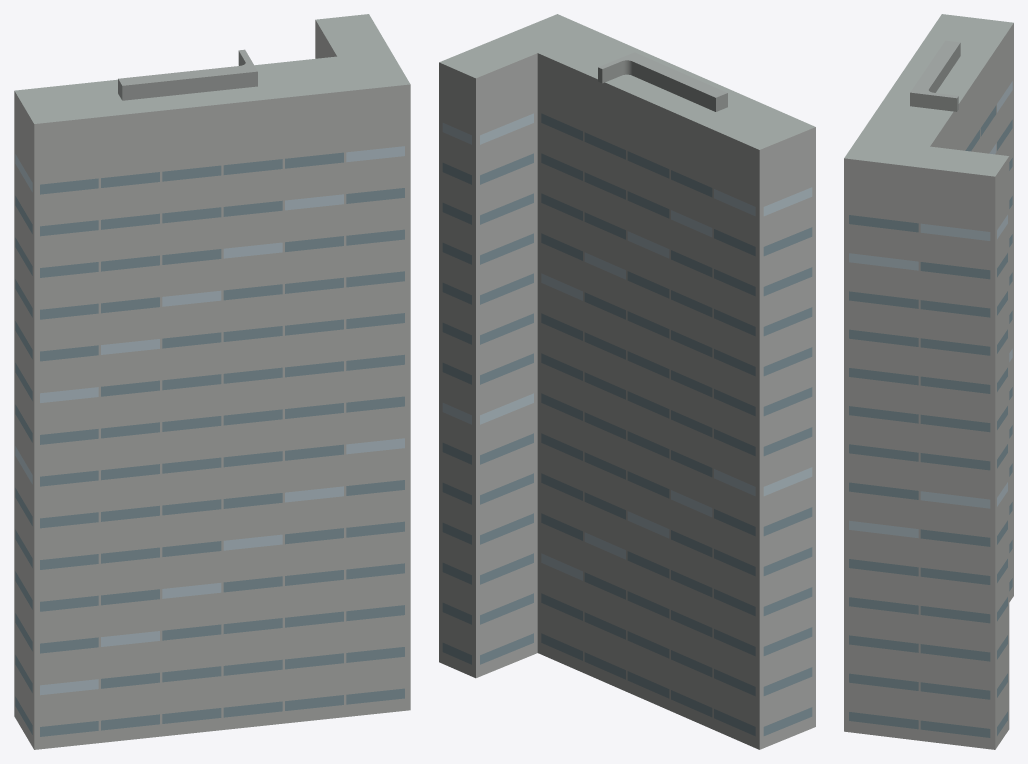
Rendered from fallback-olympic-park-foreon-107.glb.
3 views of the same model, side by side, from view 1: azimuth 30°, elevation 25°; view 2: azimuth 150°, elevation 25°; view 3: azimuth 270°, elevation 25° (orthographic). The views are drawn at different scales.
Parts seen in each view (by area): view 1: fallback-olympic-park-foreon-107; view 2: fallback-olympic-park-foreon-107; view 3: fallback-olympic-park-foreon-107.
Part boxes in pixels (x1,y1,x2,y2): fallback-olympic-park-foreon-107: (14, 14, 410, 749); fallback-olympic-park-foreon-107: (439, 14, 815, 749); fallback-olympic-park-foreon-107: (844, 14, 1013, 749).
Size of the model in its own units: 61.22 by 103 by 27.02.
